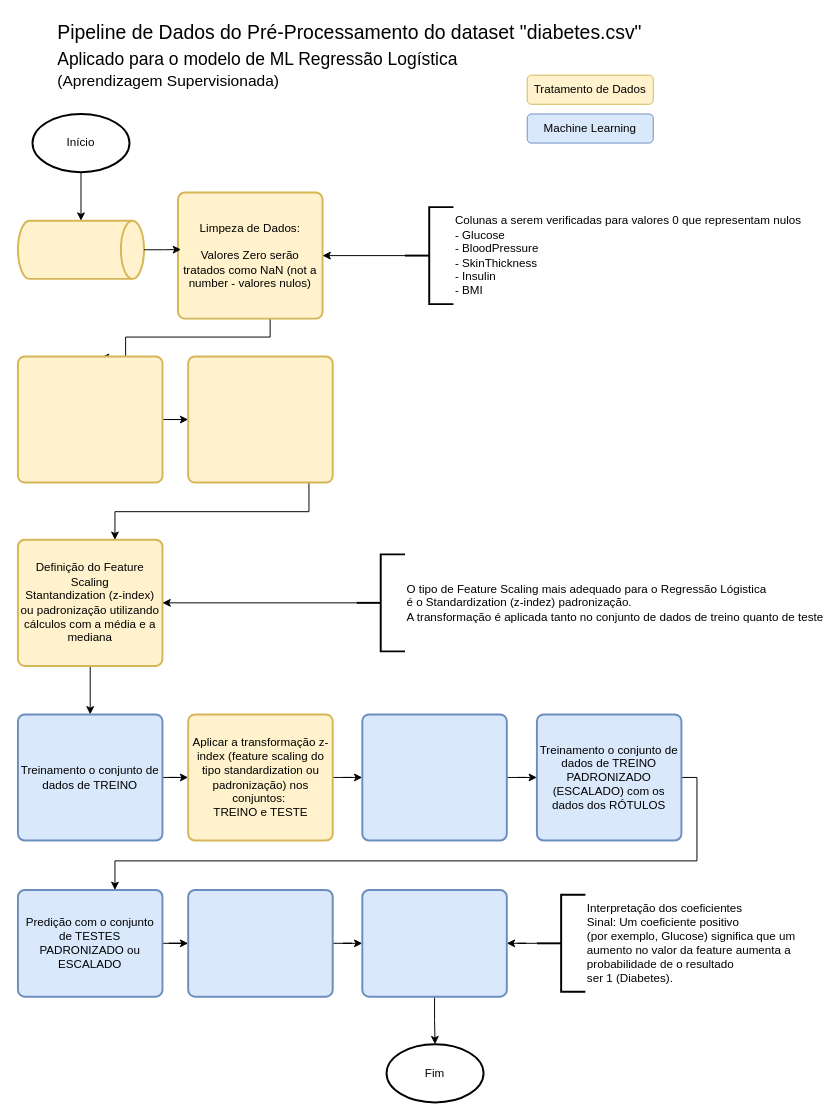
Image size: 840x1119. Some labels were removed from this diagram. Here are the shapes that lost their labels. From the top down, the box of each, then its label:
(16, 219, 145, 279): diabetes.csv
(16, 355, 163, 483): Subtituir os NaN pela mediana da respectiva coluna
(187, 355, 333, 483): Separação dos Dados em dois conjuntos de Treino (80%) e Teste (20%)
(361, 713, 507, 841): Definição do modelo de ML Regressão Logística
(187, 889, 333, 997): Avaliar Performance com o médoto da Acurácia "ACCURARY"
(361, 889, 507, 997): Análise de Coeficientes e Exibição dos Resultados
